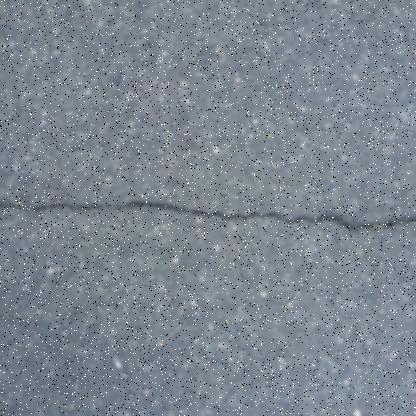Cracks: (0, 197, 414, 235)
